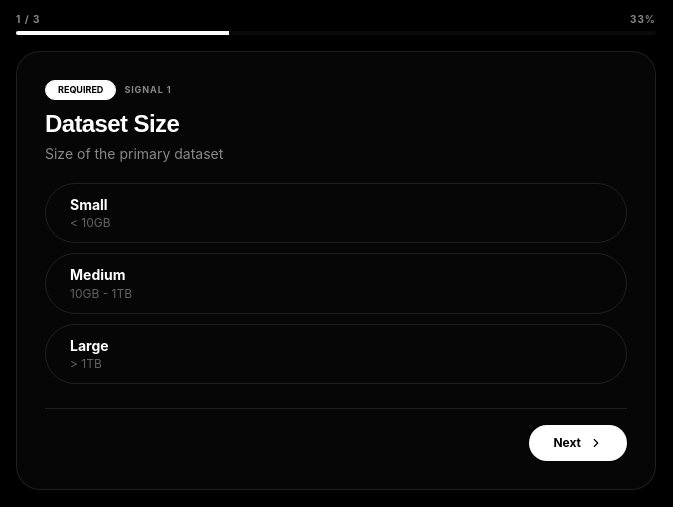
Test case: QuestionnaireForm — Multi-Step Navigation › last step shows "Analyze" button instead of "Next"
expect the heading "Dataset Size" is shown: met, box [45, 110, 179, 136]
Click the text "Large": (89, 345) [70, 337, 109, 354]
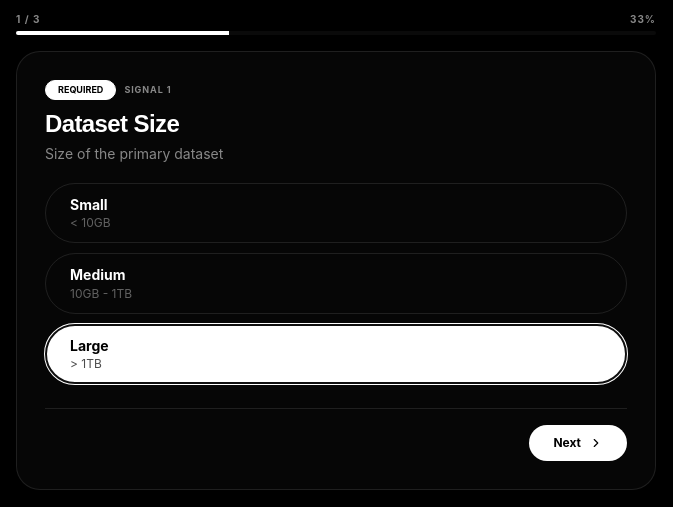
Click the button "Next": (578, 443) [529, 425, 627, 461]
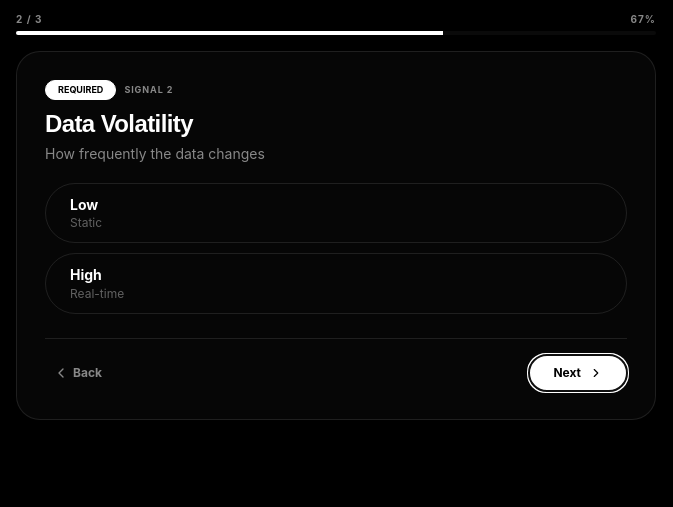
expect the heading "Data Volatility" is shown: met, box [45, 110, 193, 136]
Click the text "High": (86, 275) [70, 266, 102, 283]
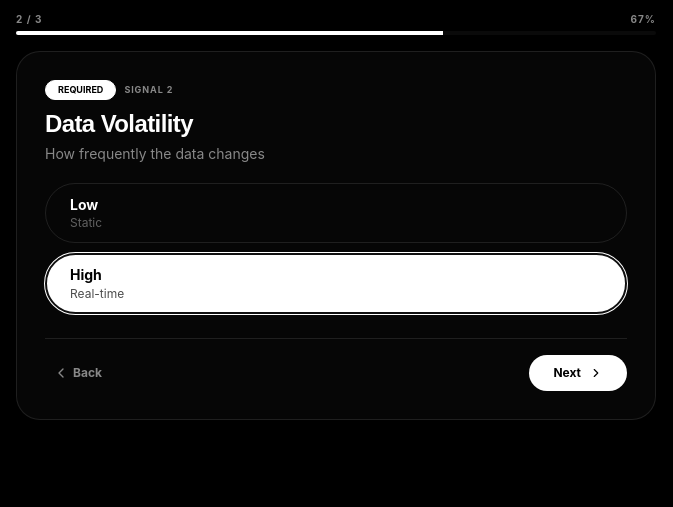
Click the button "Next": (578, 373) [529, 355, 627, 391]
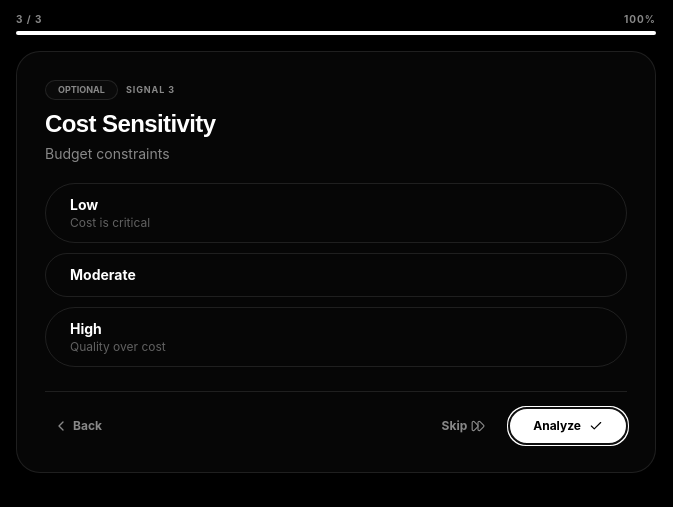
expect the button "Analyze" is shown: met, box [509, 408, 627, 444]
